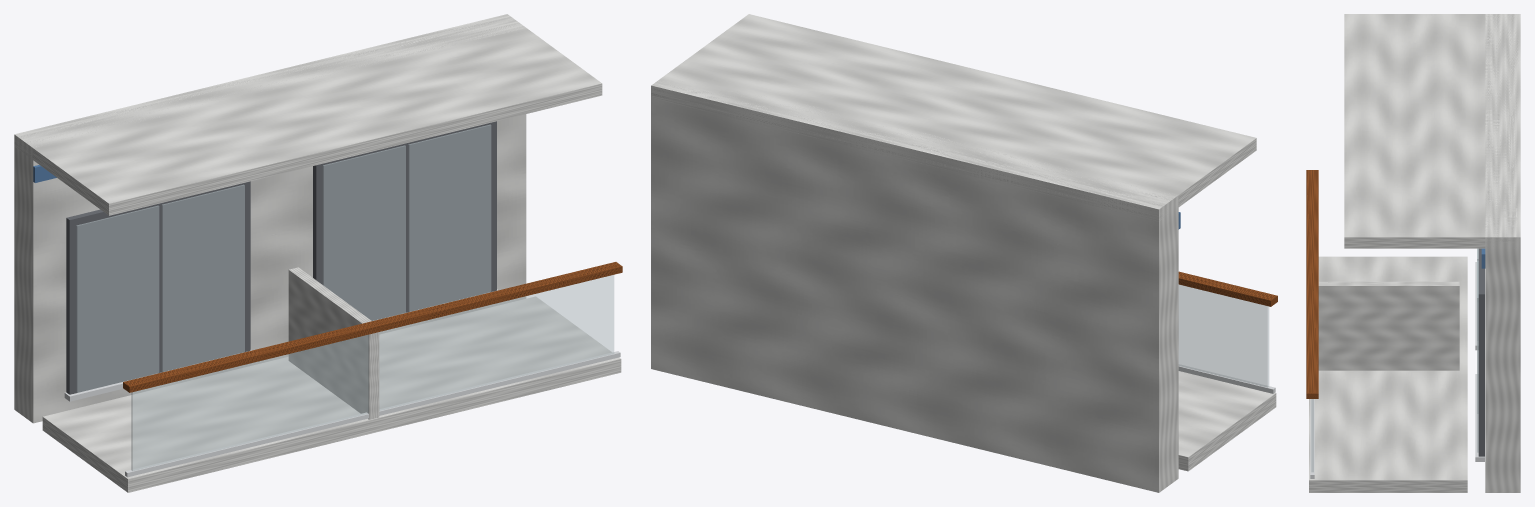
The model's file is cruise-ship-deck-and-lounge-cruise-ship-deck-and-loung-feec8ca0__38414.glb.
3 views of the same model, side by side, from view 1: azimuth 30°, elevation 25°; view 2: azimuth 150°, elevation 25°; view 3: azimuth 270°, elevation 25° (orthographic). The views are drawn at different scales.
Parts seen in each view (by area): view 1: cruise-ship-deck-and-lounge-superstructure-balcony-run; view 2: cruise-ship-deck-and-lounge-superstructure-balcony-run; view 3: cruise-ship-deck-and-lounge-superstructure-balcony-run.
Boxes of the visible parts, x1,y1,x2,y2 form: cruise-ship-deck-and-lounge-superstructure-balcony-run: [14, 14, 622, 492]; cruise-ship-deck-and-lounge-superstructure-balcony-run: [651, 14, 1277, 492]; cruise-ship-deck-and-lounge-superstructure-balcony-run: [1306, 14, 1520, 492].
Size of the model in its own units: 6 by 3.2 by 2.43.
6 materials, 2 textured.
